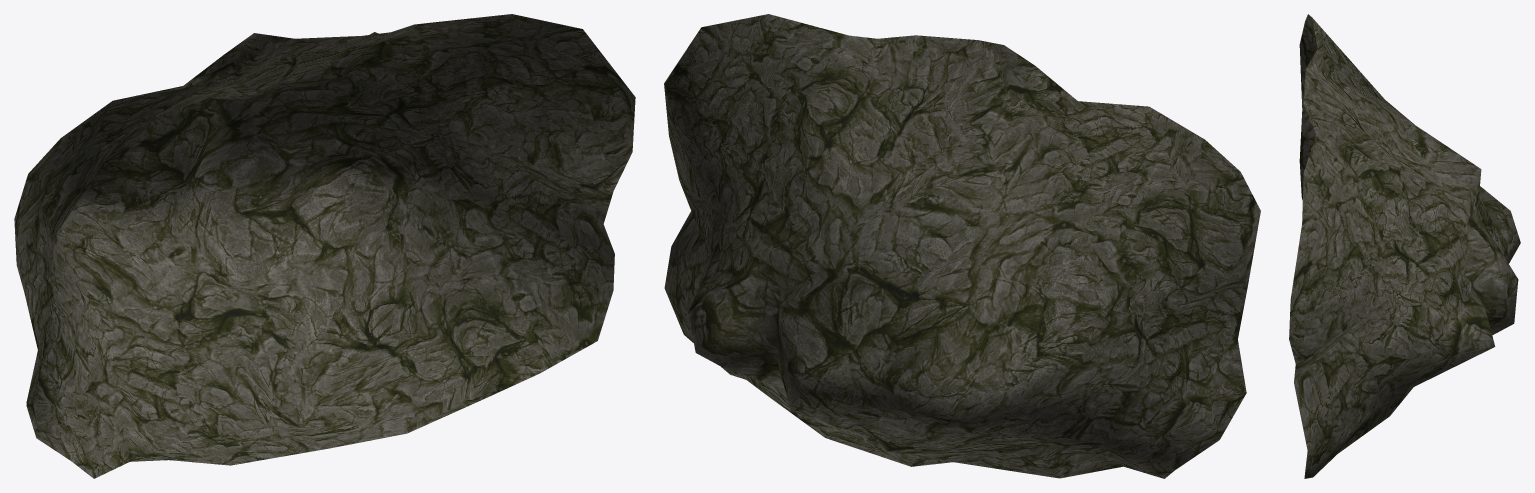
File: TI_Cliff_01_k_LOD_02.fbx
3 views of the same model, side by side, from view 1: azimuth 30°, elevation 25°; view 2: azimuth 150°, elevation 25°; view 3: azimuth 270°, elevation 25° (orthographic). The views are drawn at different scales.
Parts seen in each view (by area): view 1: TI_Cliff_01_k_LOD_02; view 2: TI_Cliff_01_k_LOD_02; view 3: TI_Cliff_01_k_LOD_02.
Part boxes in pixels (<box>): TI_Cliff_01_k_LOD_02: <box>14,14,635,478</box>; TI_Cliff_01_k_LOD_02: <box>664,14,1260,478</box>; TI_Cliff_01_k_LOD_02: <box>1289,14,1520,478</box>.
Size of the model in its own units: 8.18 by 5.51 by 3.4.
